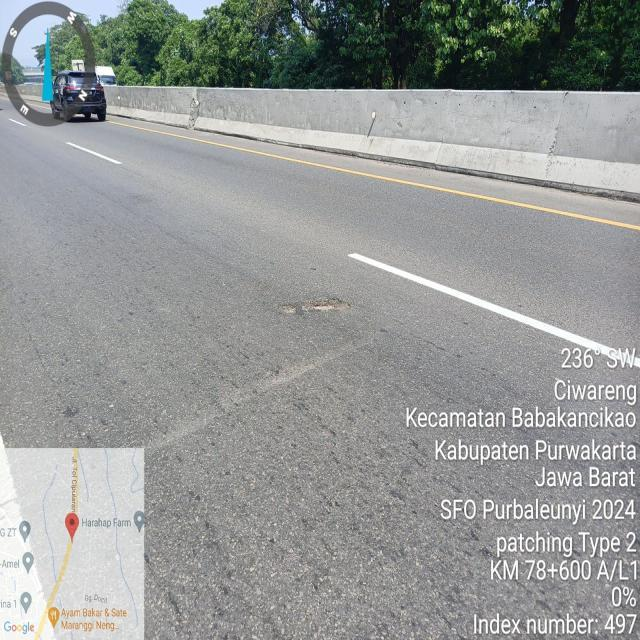Buraco: (272, 294, 354, 318)
